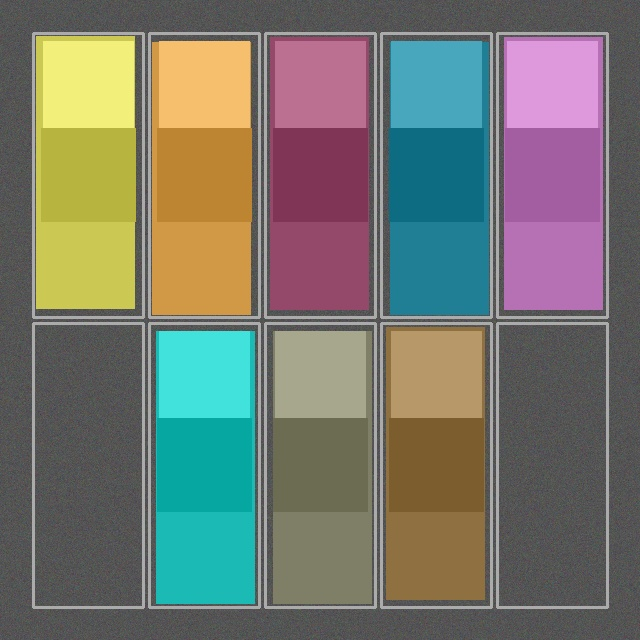space-empty: (35, 325, 141, 605), (499, 325, 605, 605)
space-occupied: (35, 35, 141, 315), (151, 35, 257, 315), (267, 35, 373, 315), (383, 35, 489, 315), (499, 35, 605, 315), (151, 325, 257, 605), (267, 325, 373, 605), (383, 325, 489, 605)
